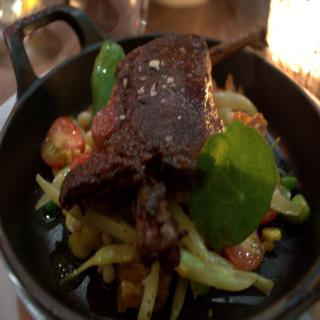tomato: (40, 116, 86, 164), (228, 225, 264, 274)
